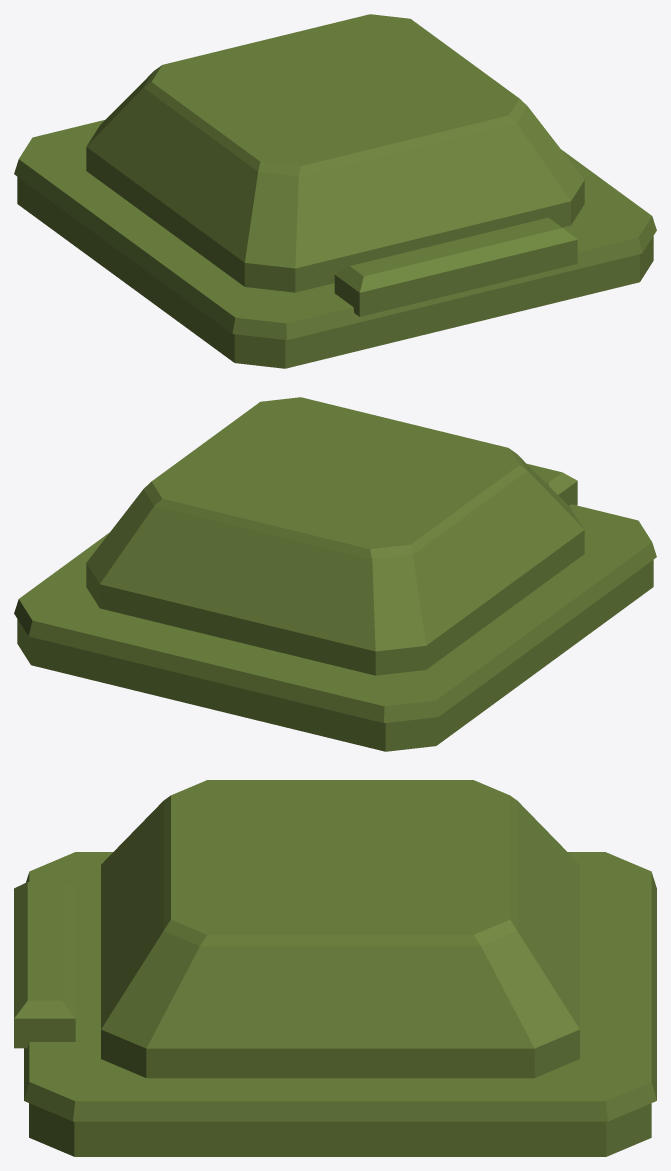
Rendered from SM_Clutter_WheelieBin_Lid_Green_01.fbx.
3 renders of one model, top to bottom at view 1: azimuth 30°, elevation 25°; view 2: azimuth 150°, elevation 25°; view 3: azimuth 270°, elevation 25°, orthographic. The views are drawn at different scales.
Parts seen in each view (by area): view 1: SM_Clutter_WheelieBin_Lid_Green_01; view 2: SM_Clutter_WheelieBin_Lid_Green_01; view 3: SM_Clutter_WheelieBin_Lid_Green_01.
Part boxes in pixels (bbox=[...]): SM_Clutter_WheelieBin_Lid_Green_01: bbox=[14, 14, 656, 368]; SM_Clutter_WheelieBin_Lid_Green_01: bbox=[14, 397, 656, 751]; SM_Clutter_WheelieBin_Lid_Green_01: bbox=[14, 780, 656, 1156].
Bounding box in the file's own units: 0.662 × 0.212 × 0.709.
Materials: 1 (1 with a texture image).
